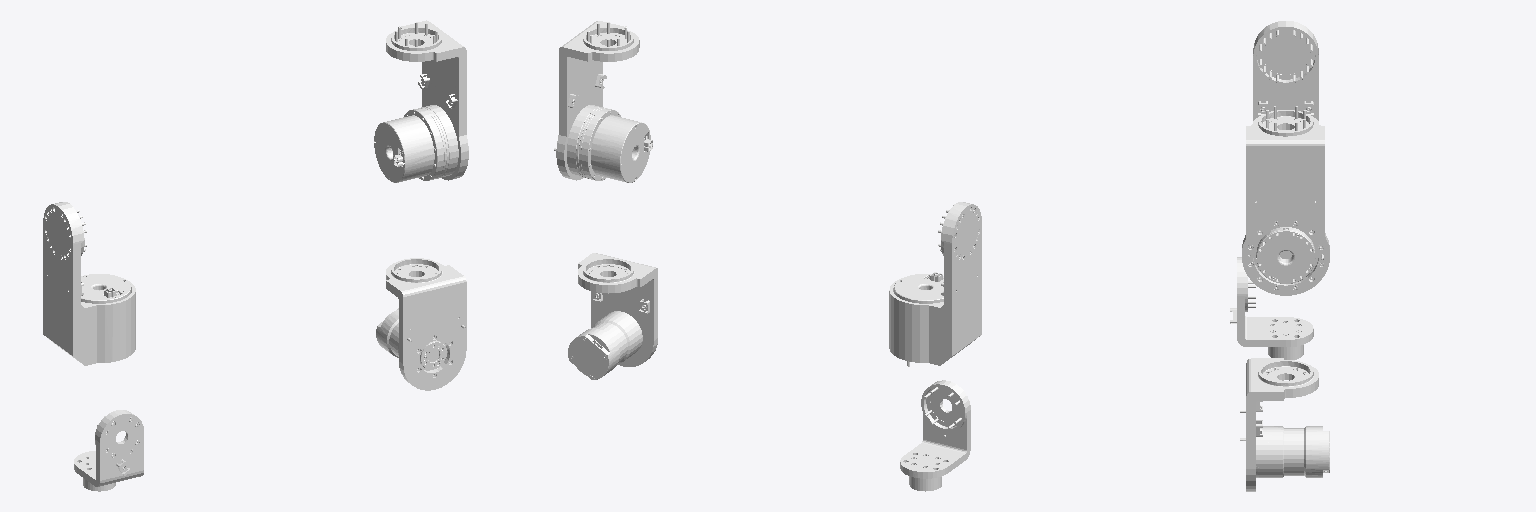
URDF robot description (asmb_robot):
<?xml version="1.0" encoding="utf-8"?>
<!-- This URDF was automatically created by SolidWorks to URDF Exporter! Originally created by [author] ([email redacted]) 
     Commit Version: 1.6.0-4-g7f85cfe  Build Version: 1.6.7995.38578
     For more information, please see http://wiki.ros.org/sw_urdf_exporter -->
<robot name="asmb_robot">
    <webots>
        <plugin type="webots_ros2_control::Ros2Control"/>
    </webots>

    <!-- Data files required by the UR driver -->
    <ros2_control name="WebotsControl" type="system">
        <hardware>
        <plugin>webots_ros2_control::Ros2ControlSystem</plugin>
        </hardware>
    </ros2_control>

    <link
        name="base_link">
    <inertial>
      <origin
        xyz="0.00033756 -0.1009 -0.19396"
        rpy="0 0 0" />
      <mass
        value="6.0305" />
      <inertia
        ixx="0.046724"
        ixy="-4.5041E-07"
        ixz="9.91E-07"
        iyy="0.067731"
        iyz="1.1733E-05"
        izz="0.063865" />
    </inertial>
    <visual>
      <origin
        xyz="0 0 0"
        rpy="0 0 0" />
      <geometry>
        <mesh
          filename="package://webots_ros2_universal_robot/resource/asmb_robot/meshes/base_link.STL" />
      </geometry>
      <material
        name="">
        <color
          rgba="1 1 1 1" />
      </material>
    </visual>
    <collision>
      <origin
        xyz="0 0 0"
        rpy="0 0 0" />
      <geometry>
        <mesh
          filename="package://webots_ros2_universal_robot/resource/asmb_robot/meshes/base_link.STL" />
      </geometry>
    </collision>
  </link>
  <link
    name="left_arm_link1">
    <inertial>
      <origin
        xyz="-0.0111719312011821 0.0427328534267481 2.4355875653137E-05"
        rpy="0 0 0" />
      <mass
        value="0.37555886929927" />
      <inertia
        ixx="0.000330326017891572"
        ixy="4.02540731446064E-05"
        ixz="9.05997243548107E-08"
        iyy="0.000350494198283333"
        iyz="3.43414054726243E-08"
        izz="0.00035980809203984" />
    </inertial>
    <visual>
      <origin
        xyz="0 0 0"
        rpy="0 0 0" />
      <geometry>
        <mesh
          filename="package://webots_ros2_universal_robot/resource/asmb_robot/meshes/left_arm_link1.STL" />
      </geometry>
      <material
        name="">
        <color
          rgba="1 1 1 1" />
      </material>
    </visual>
    <collision>
      <origin
        xyz="0 0 0"
        rpy="0 0 0" />
      <geometry>
        <mesh
          filename="package://webots_ros2_universal_robot/resource/asmb_robot/meshes/left_arm_link1.STL" />
      </geometry>
    </collision>
  </link>
  <joint
    name="left_arm_joint1"
    type="revolute">
    <origin
      xyz="-0.1469 -0.1 0.473"
      rpy="0 0 1.5708" />
    <parent
      link="base_link" />
    <child
      link="left_arm_link1" />
    <axis
      xyz="0 1 0" />
    <limit
      lower="-3.14"
      upper="3.14"
      effort="100"
      velocity="1" />
  </joint>
  <link
    name="left_arm_link2">
    <inertial>
      <origin
        xyz="0.0435127489328919 1.14223705264815E-05 -0.103754624609668"
        rpy="0 0 0" />
      <mass
        value="0.471882858713434" />
      <inertia
        ixx="0.00068468942336303"
        ixy="-3.44237430445354E-08"
        ixz="0.000110141059333616"
        iyy="0.000765223053968466"
        iyz="-2.66607580729733E-07"
        izz="0.00042250117285836" />
    </inertial>
    <visual>
      <origin
        xyz="0 0 0"
        rpy="0 0 0" />
      <geometry>
        <mesh
          filename="package://webots_ros2_universal_robot/resource/asmb_robot/meshes/left_arm_link2.STL" />
      </geometry>
      <material
        name="">
        <color
          rgba="1 1 1 1" />
      </material>
    </visual>
    <collision>
      <origin
        xyz="0 0 0"
        rpy="0 0 0" />
      <geometry>
        <mesh
          filename="package://webots_ros2_universal_robot/resource/asmb_robot/meshes/left_arm_link2.STL" />
      </geometry>
    </collision>
  </link>
  <joint
    name="left_arm_joint2"
    type="revolute">
    <origin
      xyz="-0.057 0.0536 0"
      rpy="0 0 0" />
    <parent
      link="left_arm_link1" />
    <child
      link="left_arm_link2" />
    <axis
      xyz="1 0 0" />
    <limit
      lower="-3.14"
      upper="3.14"
      effort="100"
      velocity="1" />
  </joint>
  <link
    name="left_arm_link3">
    <inertial>
      <origin
        xyz="2.23152680167565E-05 0.0255369447390962 -0.0422552886041748"
        rpy="0 0 0" />
      <mass
        value="0.134068404066203" />
      <inertia
        ixx="0.000305770736688707"
        ixy="-5.26601068819632E-13"
        ixz="-9.76065410959744E-11"
        iyy="0.00034023745896926"
        iyz="5.09681758674869E-05"
        izz="0.000115722238046747" />
    </inertial>
    <visual>
      <origin
        xyz="0 0 0"
        rpy="0 0 0" />
      <geometry>
        <mesh
          filename="package://webots_ros2_universal_robot/resource/asmb_robot/meshes/left_arm_link3.STL" />
      </geometry>
      <material
        name="">
        <color
          rgba="1 1 1 1" />
      </material>
    </visual>
    <collision>
      <origin
        xyz="0 0 0"
        rpy="0 0 0" />
      <geometry>
        <mesh
          filename="package://webots_ros2_universal_robot/resource/asmb_robot/meshes/left_arm_link3.STL" />
      </geometry>
    </collision>
  </link>
  <joint
    name="left_arm_joint3"
    type="revolute">
    <origin
      xyz="0.057 0 -0.15815"
      rpy="0 0 0" />
    <parent
      link="left_arm_link2" />
    <child
      link="left_arm_link3" />
    <axis
      xyz="0 0 -1" />
    <limit
      lower="-3.14"
      upper="3.14"
      effort="100"
      velocity="1" />
  </joint>
  <link
    name="left_arm_link4">
    <inertial>
      <origin
        xyz="2.37968174031794E-05 -0.0391123742147303 -0.101879035893484"
        rpy="0 0 0" />
      <mass
        value="0.481341653757711" />
      <inertia
        ixx="0.000797421090645401"
        ixy="3.44237413580918E-08"
        ixz="-2.63646690851135E-07"
        iyy="0.000753259239873371"
        iyz="-0.000111507215554053"
        izz="0.000426003163020559" />
    </inertial>
    <visual>
      <origin
        xyz="0 0 0"
        rpy="0 0 0" />
      <geometry>
        <mesh
          filename="package://webots_ros2_universal_robot/resource/asmb_robot/meshes/left_arm_link4.STL" />
      </geometry>
      <material
        name="">
        <color
          rgba="1 1 1 1" />
      </material>
    </visual>
    <collision>
      <origin
        xyz="0 0 0"
        rpy="0 0 0" />
      <geometry>
        <mesh
          filename="package://webots_ros2_universal_robot/resource/asmb_robot/meshes/left_arm_link4.STL" />
      </geometry>
    </collision>
  </link>
  <joint
    name="left_arm_joint4"
    type="revolute">
    <origin
      xyz="0 0.052 -0.12135"
      rpy="0 0 0" />
    <parent
      link="left_arm_link3" />
    <child
      link="left_arm_link4" />
    <axis
      xyz="0 -1 0" />
    <limit
      lower="-3.14"
      upper="3.14"
      effort="100"
      velocity="1" />
  </joint>
  <link
    name="left_arm_link5">
    <inertial>
      <origin
        xyz="-0.00832510191125416 7.31447708182675E-06 -0.0647333672491731"
        rpy="0 0 0" />
      <mass
        value="0.36518735117001" />
      <inertia
        ixx="0.000323872947540741"
        ixy="-9.0599724720789E-08"
        ixz="-3.06026099110981E-05"
        iyy="0.00034125199153883"
        iyz="-3.03261364900974E-08"
        izz="0.000291712635621284" />
    </inertial>
    <visual>
      <origin
        xyz="0 0 0"
        rpy="0 0 0" />
      <geometry>
        <mesh
          filename="package://webots_ros2_universal_robot/resource/asmb_robot/meshes/left_arm_link5.STL" />
      </geometry>
      <material
        name="">
        <color
          rgba="1 1 1 1" />
      </material>
    </visual>
    <collision>
      <origin
        xyz="0 0 0"
        rpy="0 0 0" />
      <geometry>
        <mesh
          filename="package://webots_ros2_universal_robot/resource/asmb_robot/meshes/left_arm_link5.STL" />
      </geometry>
    </collision>
  </link>
  <joint
    name="left_arm_joint5"
    type="revolute">
    <origin
      xyz="0 -0.052 -0.15815"
      rpy="0 0 0" />
    <parent
      link="left_arm_link4" />
    <child
      link="left_arm_link5" />
    <axis
      xyz="0 0 -1" />
    <limit
      lower="-3.14"
      upper="3.14"
      effort="100"
      velocity="1" />
  </joint>
  <link
    name="left_arm_link6">
    <inertial>
      <origin
        xyz="0.0254484238194076 8.7207945752843E-06 -0.0424423841312473"
        rpy="0 0 0" />
      <mass
        value="0.0794420469377912" />
      <inertia
        ixx="4.99626248401598E-05"
        ixy="-9.96241233946103E-09"
        ixz="1.77191875127423E-05"
        iyy="6.3552300504397E-05"
        iyz="1.90103058951267E-09"
        izz="4.60198391772348E-05" />
    </inertial>
    <visual>
      <origin
        xyz="0 0 0"
        rpy="0 0 0" />
      <geometry>
        <mesh
          filename="package://webots_ros2_universal_robot/resource/asmb_robot/meshes/left_arm_link6.STL" />
      </geometry>
      <material
        name="">
        <color
          rgba="1 1 1 1" />
      </material>
    </visual>
    <collision>
      <origin
        xyz="0 0 0"
        rpy="0 0 0" />
      <geometry>
        <mesh
          filename="package://webots_ros2_universal_robot/resource/asmb_robot/meshes/left_arm_link6.STL" />
      </geometry>
    </collision>
  </link>
  <joint
    name="left_arm_joint6"
    type="revolute">
    <origin
      xyz="-0.04715 0 -0.07985"
      rpy="0 0 0" />
    <parent
      link="left_arm_link5" />
    <child
      link="left_arm_link6" />
    <axis
      xyz="-1 0 0" />
    <limit
      lower="-3.14"
      upper="3.14"
      effort="100"
      velocity="1" />
  </joint>
  <link
    name="left_arm_link7">
    <inertial>
      <origin
        xyz="-0.00684591368773449 -0.00225966487041221 -0.0757888860974246"
        rpy="0 0 0" />
      <mass
        value="0.246381268980238" />
      <inertia
        ixx="9.74981646570946E-05"
        ixy="1.48560941846273E-07"
        ixz="-1.55997251411429E-06"
        iyy="7.01118905134604E-05"
        iyz="-1.66728272662123E-08"
        izz="6.42805103728722E-05" />
    </inertial>
    <visual>
      <origin
        xyz="0 0 0"
        rpy="0 0 0" />
      <geometry>
        <mesh
          filename="package://webots_ros2_universal_robot/resource/asmb_robot/meshes/left_arm_link7.STL" />
      </geometry>
      <material
        name="">
        <color
          rgba="1 1 1 1" />
      </material>
    </visual>
    <collision>
      <origin
        xyz="0 0 0"
        rpy="0 0 0" />
      <geometry>
        <mesh
          filename="package://webots_ros2_universal_robot/resource/asmb_robot/meshes/left_arm_link7.STL" />
      </geometry>
    </collision>
  </link>
  <joint
    name="left_arm_joint7"
    type="revolute">
    <origin
      xyz="0.04715 0 -0.067"
      rpy="0 0 0" />
    <parent
      link="left_arm_link6" />
    <child
      link="left_arm_link7" />
    <axis
      xyz="0 0 -1" />
    <limit
      lower="-3.14"
      upper="3.14"
      effort="100"
      velocity="1" />
  </joint>
  <link
    name="right_arm_link1">
    <inertial>
      <origin
        xyz="-0.0111614849352257 -0.0428043633393793 2.10841879104695E-05"
        rpy="0 0 0" />
      <mass
        value="0.375354991700786" />
      <inertia
        ixx="0.000330315430803661"
        ixy="-3.97269748405946E-05"
        ixz="9.05997217182602E-08"
        iyy="0.000350498571452007"
        iyz="3.20249609898234E-08"
        izz="0.000359792713594112" />
    </inertial>
    <visual>
      <origin
        xyz="0 0 0"
        rpy="0 0 0" />
      <geometry>
        <mesh
          filename="package://webots_ros2_universal_robot/resource/asmb_robot/meshes/right_arm_link1.STL" />
      </geometry>
      <material
        name="">
        <color
          rgba="1 1 1 1" />
      </material>
    </visual>
    <collision>
      <origin
        xyz="0 0 0"
        rpy="0 0 0" />
      <geometry>
        <mesh
          filename="package://webots_ros2_universal_robot/resource/asmb_robot/meshes/right_arm_link1.STL" />
      </geometry>
    </collision>
  </link>
  <joint
    name="right_arm_joint1"
    type="revolute">
    <origin
      xyz="0.1469 -0.1 0.473"
      rpy="0 0 1.5708" />
    <parent
      link="base_link" />
    <child
      link="right_arm_link1" />
    <axis
      xyz="0 -1 0" />
    <limit
      lower="-3.14"
      upper="3.14"
      effort="100"
      velocity="1" />
  </joint>
  <link
    name="right_arm_link2">
    <inertial>
      <origin
        xyz="0.0436211569729559 4.29811547923709E-05 -0.104125890605173"
        rpy="0 0 0" />
      <mass
        value="0.470914062127475" />
      <inertia
        ixx="0.000684744530374561"
        ixy="-3.4423743629235E-08"
        ixz="0.000110141059333714"
        iyy="0.000765215081302057"
        iyz="-2.67540579347918E-07"
        izz="0.000422437197787534" />
    </inertial>
    <visual>
      <origin
        xyz="0 0 0"
        rpy="0 0 0" />
      <geometry>
        <mesh
          filename="package://webots_ros2_universal_robot/resource/asmb_robot/meshes/right_arm_link2.STL" />
      </geometry>
      <material
        name="">
        <color
          rgba="1 1 1 1" />
      </material>
    </visual>
    <collision>
      <origin
        xyz="0 0 0"
        rpy="0 0 0" />
      <geometry>
        <mesh
          filename="package://webots_ros2_universal_robot/resource/asmb_robot/meshes/right_arm_link2.STL" />
      </geometry>
    </collision>
  </link>
  <joint
    name="right_arm_joint2"
    type="revolute">
    <origin
      xyz="-0.057 -0.0536 0"
      rpy="0 0 0" />
    <parent
      link="right_arm_link1" />
    <child
      link="right_arm_link2" />
    <axis
      xyz="1 0 0" />
    <limit
      lower="-3.14"
      upper="3.14"
      effort="100"
      velocity="1" />
  </joint>
  <link
    name="right_arm_link3">
    <inertial>
      <origin
        xyz="2.23150819426976E-05 -0.0255369447390854 -0.0422552886058221"
        rpy="0 0 0" />
      <mass
        value="0.134068404066203" />
      <inertia
        ixx="0.000305768161452972"
        ixy="-5.23856973352433E-13"
        ixz="4.57957977786667E-09"
        iyy="0.000340237458969287"
        iyz="-5.09681758668034E-05"
        izz="0.000115724813282458" />
    </inertial>
    <visual>
      <origin
        xyz="0 0 0"
        rpy="0 0 0" />
      <geometry>
        <mesh
          filename="package://webots_ros2_universal_robot/resource/asmb_robot/meshes/right_arm_link3.STL" />
      </geometry>
      <material
        name="">
        <color
          rgba="1 1 1 1" />
      </material>
    </visual>
    <collision>
      <origin
        xyz="0 0 0"
        rpy="0 0 0" />
      <geometry>
        <mesh
          filename="package://webots_ros2_universal_robot/resource/asmb_robot/meshes/right_arm_link3.STL" />
      </geometry>
    </collision>
  </link>
  <joint
    name="right_arm_joint3"
    type="revolute">
    <origin
      xyz="0.057 0 -0.15815"
      rpy="0 0 0" />
    <parent
      link="right_arm_link2" />
    <child
      link="right_arm_link3" />
    <axis
      xyz="0 0 -1" />
    <limit
      lower="-3.14"
      upper="3.14"
      effort="100"
      velocity="1" />
  </joint>
  <link
    name="right_arm_link4">
    <inertial>
      <origin
        xyz="-5.04057109226852E-06 0.0390764537237857 -0.101759917765461"
        rpy="0 0 0" />
      <mass
        value="0.480553306375498" />
      <inertia
        ixx="0.000797347043782015"
        ixy="3.44237427553549E-08"
        ixz="2.66192892767091E-07"
        iyy="0.000753143126764587"
        iyz="0.00011150721555429"
        izz="0.000426045308109396" />
    </inertial>
    <visual>
      <origin
        xyz="0 0 0"
        rpy="0 0 0" />
      <geometry>
        <mesh
          filename="package://webots_ros2_universal_robot/resource/asmb_robot/meshes/right_arm_link4.STL" />
      </geometry>
      <material
        name="">
        <color
          rgba="1 1 1 1" />
      </material>
    </visual>
    <collision>
      <origin
        xyz="0 0 0"
        rpy="0 0 0" />
      <geometry>
        <mesh
          filename="package://webots_ros2_universal_robot/resource/asmb_robot/meshes/right_arm_link4.STL" />
      </geometry>
    </collision>
  </link>
  <joint
    name="right_arm_joint4"
    type="revolute">
    <origin
      xyz="0 -0.052 -0.12135"
      rpy="0 0 0" />
    <parent
      link="right_arm_link3" />
    <child
      link="right_arm_link4" />
    <axis
      xyz="0 1 0" />
    <limit
      lower="-3.14"
      upper="3.14"
      effort="100"
      velocity="1" />
  </joint>
  <link
    name="right_arm_link5">
    <inertial>
      <origin
        xyz="-0.00807535428200458 2.56670172060769E-08 -0.0557176335238633"
        rpy="0 0 0" />
      <mass
        value="0.271897101050664" />
      <inertia
        ixx="0.000264502626709622"
        ixy="-2.7835582841576E-10"
        ixz="-3.95786143188381E-05"
        iyy="0.00029897640303694"
        iyz="3.89752951266778E-07"
        izz="0.000208248812727084" />
    </inertial>
    <visual>
      <origin
        xyz="0 0 0"
        rpy="0 0 0" />
      <geometry>
        <mesh
          filename="package://webots_ros2_universal_robot/resource/asmb_robot/meshes/right_arm_link5.STL" />
      </geometry>
      <material
        name="">
        <color
          rgba="1 1 1 1" />
      </material>
    </visual>
    <collision>
      <origin
        xyz="0 0 0"
        rpy="0 0 0" />
      <geometry>
        <mesh
          filename="package://webots_ros2_universal_robot/resource/asmb_robot/meshes/right_arm_link5.STL" />
      </geometry>
    </collision>
  </link>
  <joint
    name="right_arm_joint5"
    type="revolute">
    <origin
      xyz="0 0.052 -0.162"
      rpy="0 0 0" />
    <parent
      link="right_arm_link4" />
    <child
      link="right_arm_link5" />
    <axis
      xyz="0 0 -1" />
    <limit
      lower="-3.14"
      upper="3.14"
      effort="100"
      velocity="1" />
  </joint>
  <link
    name="right_arm_link6">
    <inertial>
      <origin
        xyz="0.0207665378714823 -8.74230662840925E-05 -0.0389940241636525"
        rpy="0 0 0" />
      <mass
        value="0.0864651823892207" />
      <inertia
        ixx="5.89002390212819E-05"
        ixy="-1.04321646173123E-08"
        ixz="2.04059095589276E-05"
        iyy="7.28029989676431E-05"
        iyz="8.94605628178264E-09"
        izz="4.77904219556312E-05" />
    </inertial>
    <visual>
      <origin
        xyz="0 0 0"
        rpy="0 0 0" />
      <geometry>
        <mesh
          filename="package://webots_ros2_universal_robot/resource/asmb_robot/meshes/right_arm_link6.STL" />
      </geometry>
      <material
        name="">
        <color
          rgba="1 1 1 1" />
      </material>
    </visual>
    <collision>
      <origin
        xyz="0 0 0"
        rpy="0 0 0" />
      <geometry>
        <mesh
          filename="package://webots_ros2_universal_robot/resource/asmb_robot/meshes/right_arm_link6.STL" />
      </geometry>
    </collision>
  </link>
  <joint
    name="right_arm_joint6"
    type="revolute">
    <origin
      xyz="-0.044 0 -0.076"
      rpy="0 0 0" />
    <parent
      link="right_arm_link5" />
    <child
      link="right_arm_link6" />
    <axis
      xyz="-1 0 0" />
    <limit
      lower="-3.14"
      upper="3.14"
      effort="100"
      velocity="1" />
  </joint>
  <link
    name="right_arm_link7">
    <inertial>
      <origin
        xyz="-0.00747466063988353 0.00239160195661511 -0.0812730398071753"
        rpy="0 0 0" />
      <mass
        value="0.226179539449807" />
      <inertia
        ixx="9.27098029478323E-05"
        ixy="1.48560506530462E-07"
        ixz="-1.56010709202246E-06"
        iyy="6.73256048302617E-05"
        iyz="-2.86656614667542E-08"
        izz="5.70494927622878E-05" />
    </inertial>
    <visual>
      <origin
        xyz="0 0 0"
        rpy="0 0 0" />
      <geometry>
        <mesh
          filename="package://webots_ros2_universal_robot/resource/asmb_robot/meshes/right_arm_link7.STL" />
      </geometry>
      <material
        name="">
        <color
          rgba="1 1 1 1" />
      </material>
    </visual>
    <collision>
      <origin
        xyz="0 0 0"
        rpy="0 0 0" />
      <geometry>
        <mesh
          filename="package://webots_ros2_universal_robot/resource/asmb_robot/meshes/right_arm_link7.STL" />
      </geometry>
    </collision>
  </link>
  <joint
    name="right_arm_joint7"
    type="revolute">
    <origin
      xyz="0.044 0 -0.067"
      rpy="0 0 0" />
    <parent
      link="right_arm_link6" />
    <child
      link="right_arm_link7" />
    <axis
      xyz="0 0 -1" />
    <limit
      lower="-3.14"
      upper="3.14"
      effort="100"
      velocity="1" />
  </joint>
</robot>

--- What the picture shows (computed from the rendered views, not written in the file) ---
Views: 3 orthographic renders of the robot side by side, from view 1: azimuth 30°, elevation 25°; view 2: azimuth 150°, elevation 25°; view 3: azimuth 270°, elevation 25°.
Model asmb_robot with 15 links and 14 joints (14 revolute), rooted at base_link, posed all joints at 0.
Visible links, largest first — view 1: right_arm_link3, left_arm_link4, right_arm_link5, left_arm_link6; view 2: right_arm_link3, left_arm_link4, right_arm_link5, left_arm_link6; view 3: right_arm_link3, right_arm_link5, left_arm_link4, left_arm_link6.
Link boxes in pixels (<box>): right_arm_link3: <box>374,20,468,182</box>; left_arm_link4: <box>43,202,135,365</box>; right_arm_link5: <box>376,258,466,390</box>; left_arm_link6: <box>74,410,143,491</box>; right_arm_link3: <box>554,21,652,182</box>; left_arm_link4: <box>889,202,981,366</box>; right_arm_link5: <box>568,253,657,379</box>; left_arm_link6: <box>900,380,970,491</box>; right_arm_link3: <box>1242,106,1329,295</box>; right_arm_link5: <box>1240,358,1329,491</box>; left_arm_link4: <box>1253,21,1318,130</box>; left_arm_link6: <box>1230,257,1313,359</box>.
Bounding box of the posed robot: 0.5 × 0.1019 × 0.4539 m (x, y, z).
Meshes: 15 distinct files referenced, 4 mesh visuals loaded (4 binary STL); not drawn: 11 (reference not matched to a file when rendering).